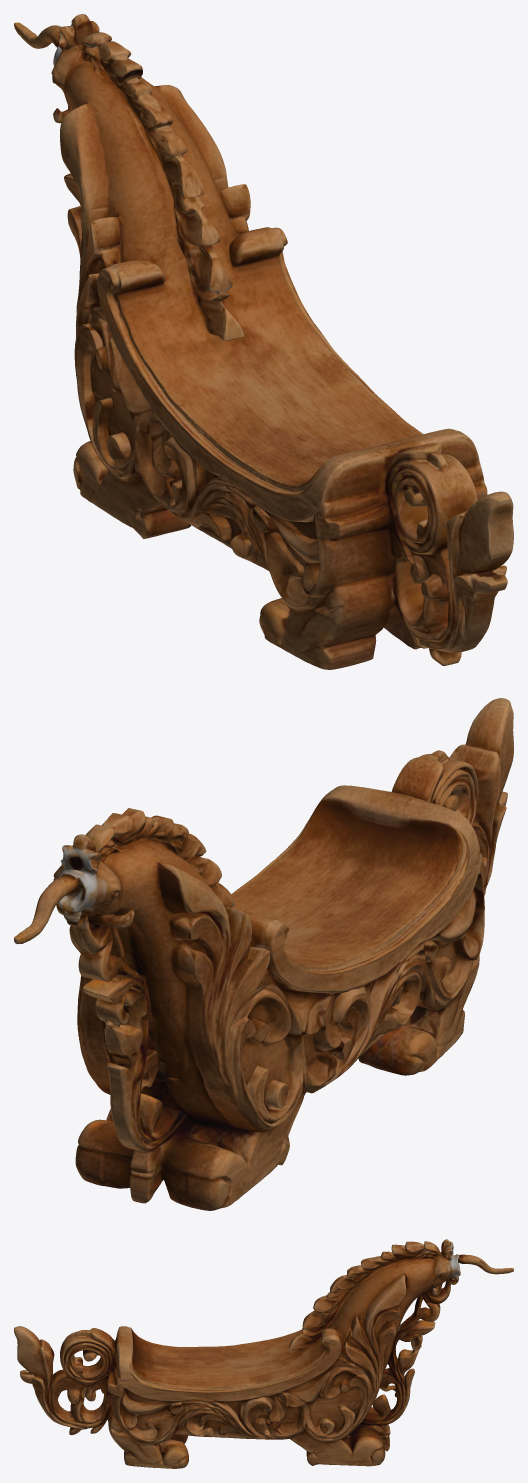
3 renders of one model, top to bottom at view 1: azimuth 30°, elevation 25°; view 2: azimuth 150°, elevation 25°; view 3: azimuth 270°, elevation 25°, orthographic. The views are drawn at different scales.
Parts seen in each view (by area): view 1: tripo_node_998141f9-54f9-438b-a905-f30fc625aab1; view 2: tripo_node_998141f9-54f9-438b-a905-f30fc625aab1; view 3: tripo_node_998141f9-54f9-438b-a905-f30fc625aab1.
Boxes of the visible parts, x1,y1,x2,y2 form: tripo_node_998141f9-54f9-438b-a905-f30fc625aab1: (14,14,513,669); tripo_node_998141f9-54f9-438b-a905-f30fc625aab1: (14,698,513,1210); tripo_node_998141f9-54f9-438b-a905-f30fc625aab1: (14,1239,513,1468).
Bounding box in the file's own units: 0.2186 × 0.464 × 1.
1 material, 1 textured.
